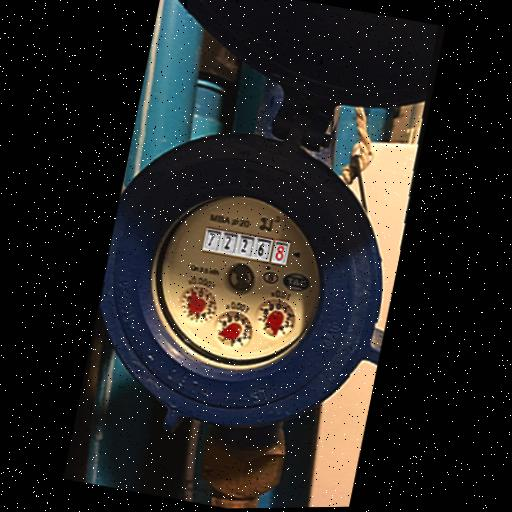2: (239, 237, 254, 257), (222, 232, 236, 253)
6: (255, 239, 270, 260)
7: (204, 230, 219, 250)
8: (273, 243, 287, 263)
border_water_meter_number: (202, 226, 291, 266)
